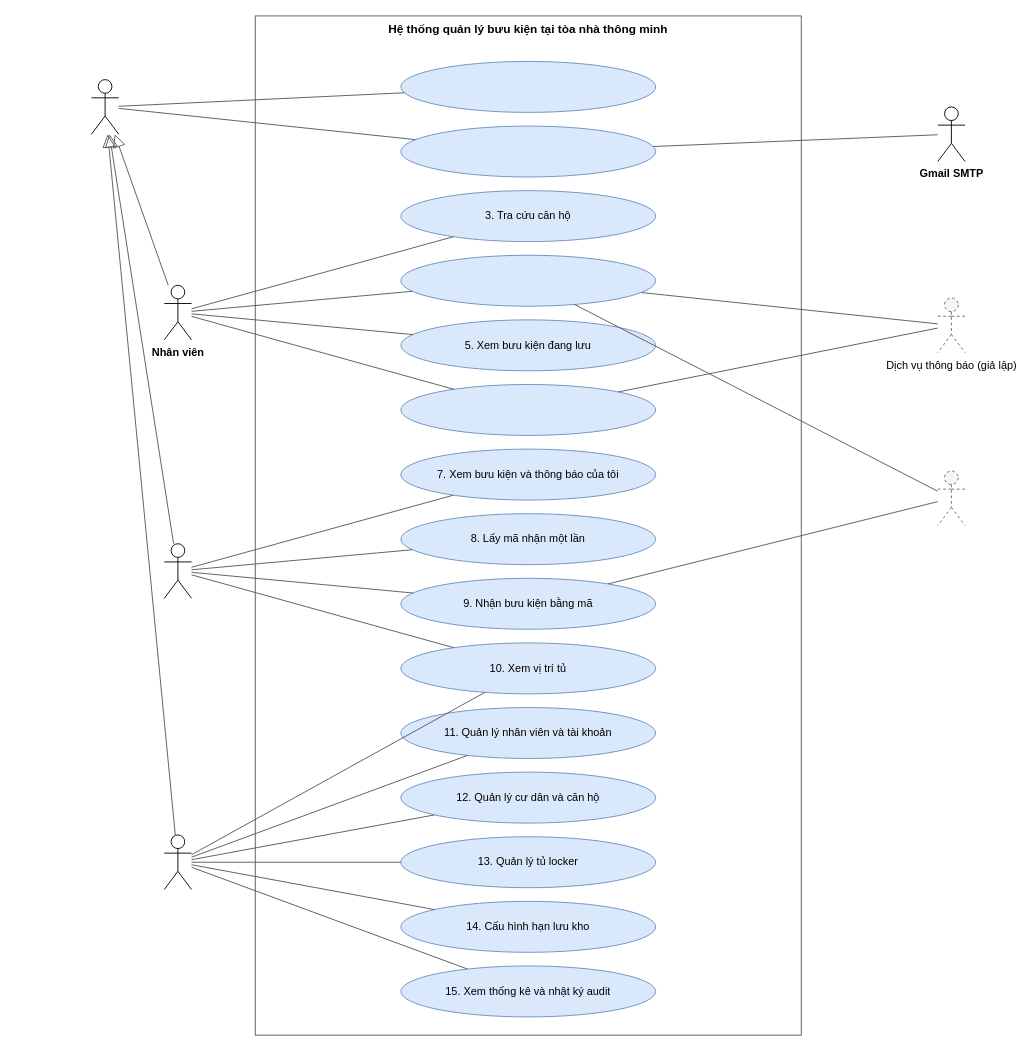
This 1032x1051 diagram has some shape labels left out. Each missing label, with the centre of its shape:
"1. Đăng nhập hệ thống" belongs at [528,86].
"2. Quên mật khẩu bằng OTP" belongs at [528,151].
"4. Tiếp nhận bưu kiện" belongs at [528,280].
"6. Xử lý bưu kiện quá hạn" belongs at [528,409].
"Cư dân" belongs at [177,570].
"Hệ thống tủ khóa (giả lập)" belongs at [951,498].
"Người dùng (tác nhân trừu tượng)" belongs at [105,106].
"Quản trị viên" belongs at [177,862].
